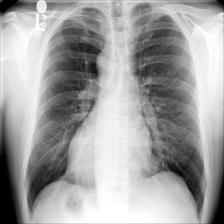normal: (17, 3, 211, 224)
